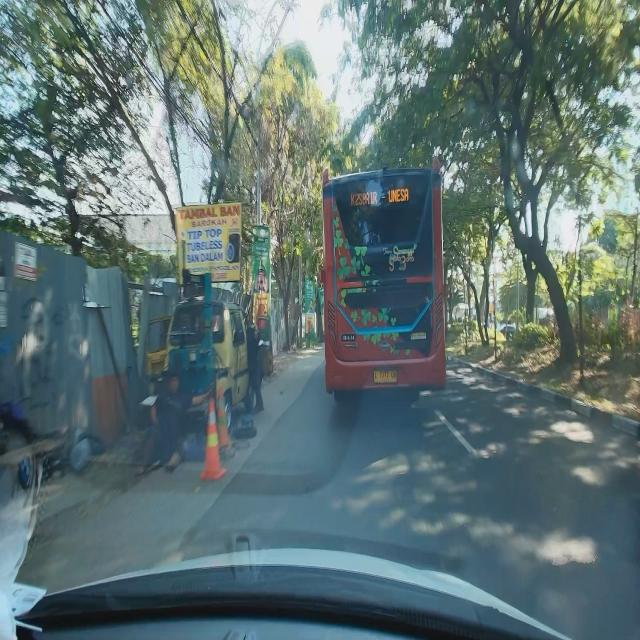bus: (321, 156, 447, 404)
license-plate: (373, 368, 398, 384)
